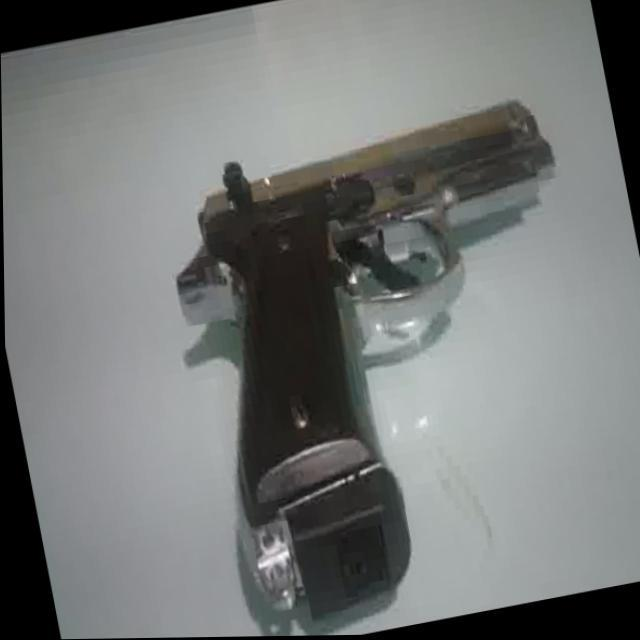weapon: (145, 90, 628, 624)
